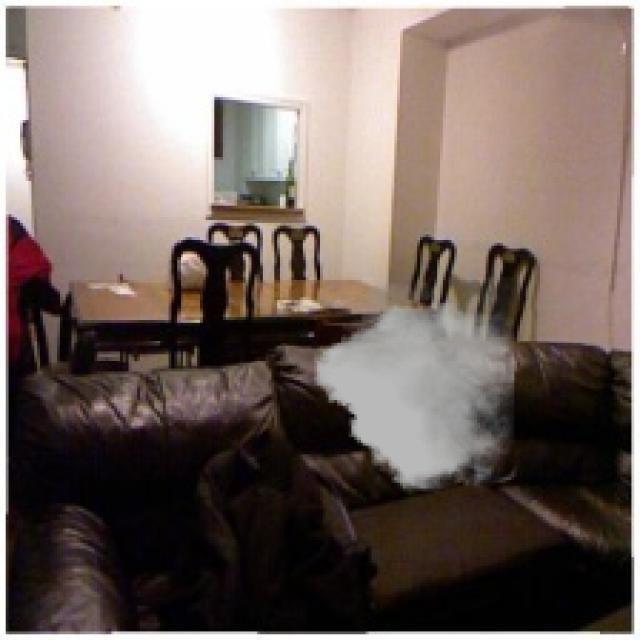Smoke: (314, 277, 514, 494)
